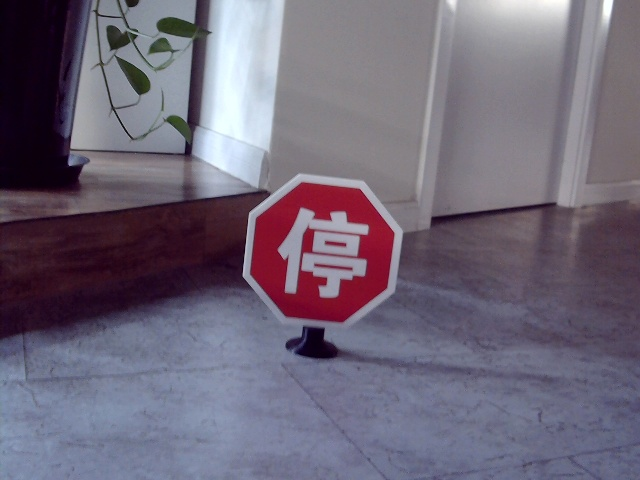stop: (276, 204, 368, 301)
